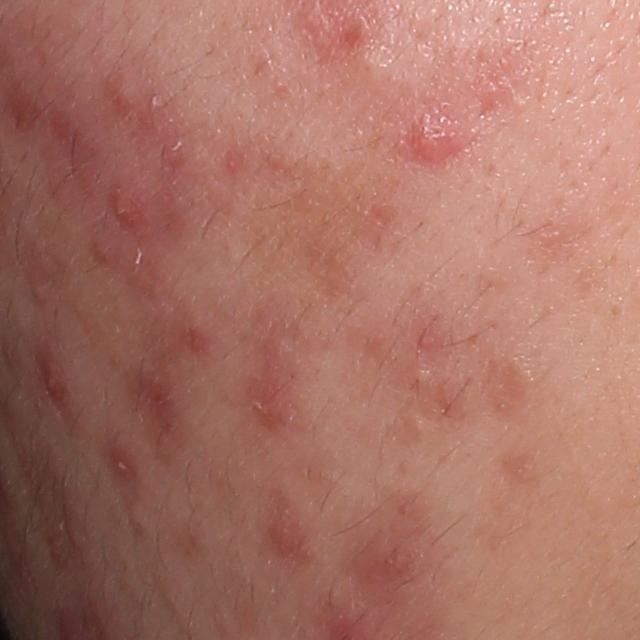papule: (241, 374, 309, 436), (261, 501, 321, 566), (412, 124, 459, 161), (105, 187, 143, 226)
